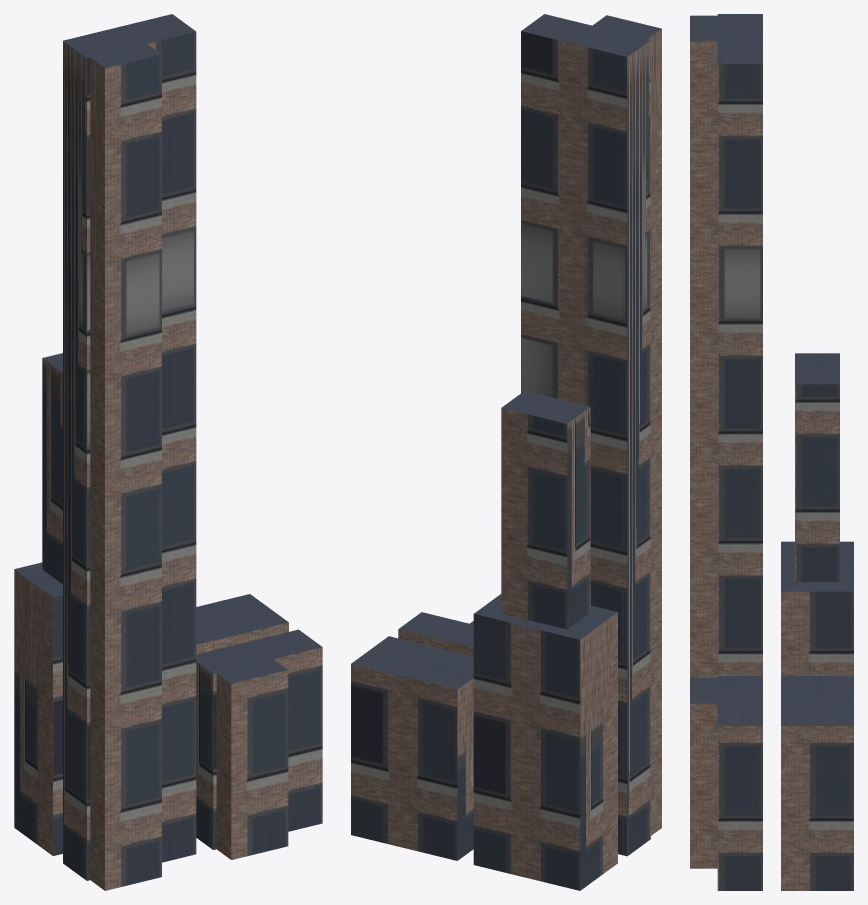
File: block_17.obj
3 views of the same model, side by side, from view 1: azimuth 30°, elevation 25°; view 2: azimuth 150°, elevation 25°; view 3: azimuth 270°, elevation 25° (orthographic). The views are drawn at different scales.
Visible parts, largest first — view 1: b1, b3, b0, b2; view 2: b1, b0, b2, b3; view 3: b1, b0, b2, b3.
Part boxes in pixels (bbox=[...]): b1: bbox=[63, 14, 196, 890]; b3: bbox=[196, 629, 322, 859]; b0: bbox=[14, 353, 62, 855]; b2: bbox=[196, 594, 288, 654]; b1: bbox=[521, 14, 661, 856]; b0: bbox=[473, 391, 617, 890]; b2: bbox=[351, 636, 473, 860]; b3: bbox=[398, 612, 473, 656]; b1: bbox=[690, 14, 762, 677]; b0: bbox=[781, 353, 853, 675]; b2: bbox=[781, 676, 853, 890]; b3: bbox=[690, 676, 762, 890].
Bounding box in the file's own units: 4.2 × 14 × 2.7.
